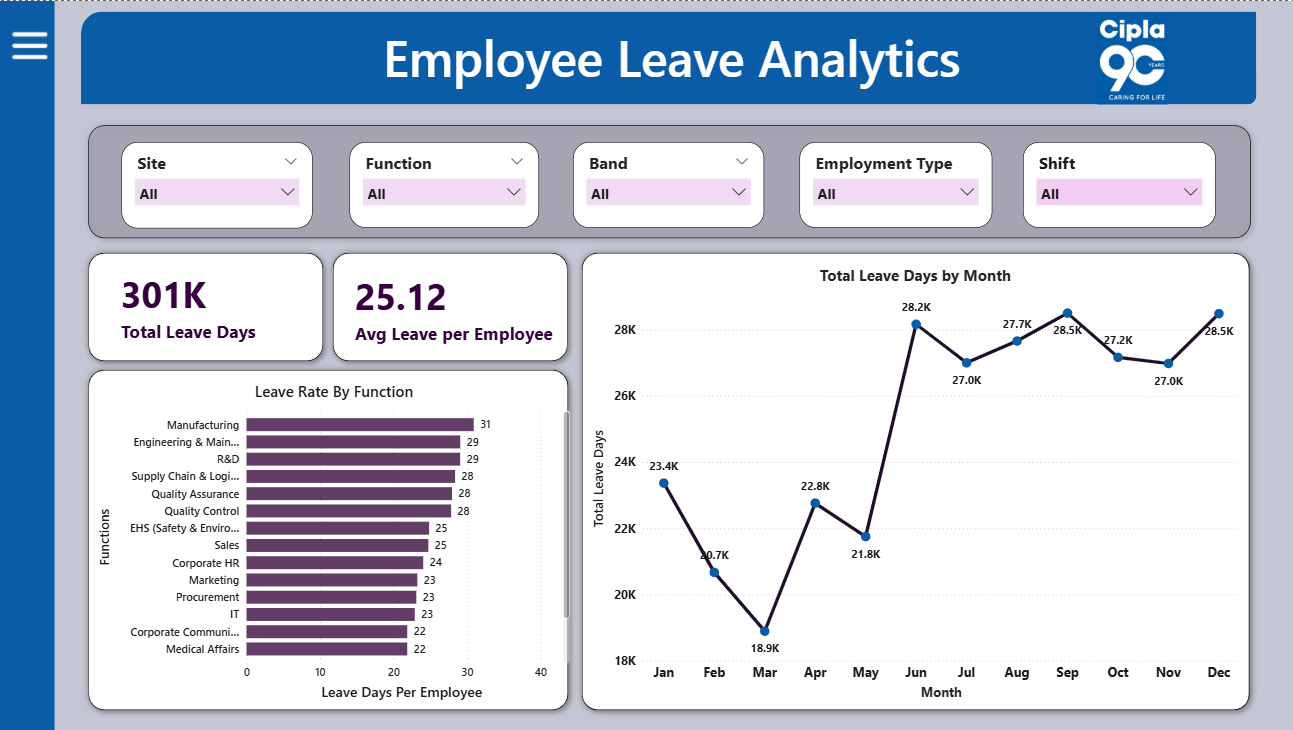

The dashboard page shown, as its layout file describes it:
{"tool":"powerbi","page":{"name":"Executive Overview","canvas":[1600,900],"ordinal":0},"visuals":[{"type":"shape","box":[2.9,0,67.3,900],"z":0,"group":"g1"},{"type":"actionButton","title":"Flyout","box":[245.6,0,1354.9,900],"z":0,"group":"g2"},{"type":"shape","box":[104.3,85.1,1451.1,42.6],"z":0},{"type":"shape","box":[104.3,12.8,1451.1,104.3],"z":1000},{"type":"actionButton","title":"Menu Button","box":[11.7,23.4,55.3,61.7],"z":1000,"group":"g1"},{"type":"actionButton","title":"back button","box":[298.6,60.8,68.6,60.8],"z":1000,"group":"g2"},{"type":"shape","title":"Page Navigation","box":[69.4,0,248.9,900],"z":2000,"group":"g2"},{"type":"shape","box":[104.3,446.8,610.6,438.3],"z":2000},{"type":"actionButton","title":"Pattern Insights","box":[31.9,419.6,266.7,62.7],"z":3000,"group":"g2"},{"type":"clusteredBarChart","title":"Leave Rate By Function","fields":{"Category":["Employees.Function"],"Y":["Leaves.Avg Leave per Employee"]},"box":[121.3,468.1,591.5,400],"z":3000},{"type":"shape","box":[104.3,144.7,1453.2,157.4],"z":4000},{"type":"actionButton","title":"Location Insights","box":[31.9,318.6,266.7,62.7],"z":4000,"group":"g2"},{"type":"actionButton","title":"Executive Overview","box":[31.9,217.6,266.7,62.7],"z":5000,"group":"g2"},{"type":"shape","box":[104,302,308,152],"z":5000},{"type":"shape","box":[406,302,308,152],"z":6000},{"type":"group","id":"g1","title":"Menu Bar","box":[2.9,0,67.3,900],"z":7000},{"type":"cardVisual","fields":{"Data":["Leaves.Total Leave Days"]},"box":[124,308,266,138],"z":8000},{"type":"cardVisual","fields":{"Data":["Leaves.Avg Leave per Employee"]},"box":[412.8,308.5,317,138.3],"z":9000},{"type":"slicer","fields":{"Values":["Sites.Site_Name"]},"box":[153.2,174.5,236.2,106.4],"z":10000},{"type":"slicer","fields":{"Values":["Employees.Function"]},"box":[436,174,234,106],"z":11000},{"type":"slicer","fields":{"Values":["Employees.Band"]},"box":[712,174,236,106],"z":12000},{"type":"slicer","fields":{"Values":["Employees.Employment_Type"]},"box":[990,174,238,106],"z":13000},{"type":"shape","box":[712.8,302.1,842.6,583],"z":14000},{"type":"lineChart","title":"Total Leave Days by Month","fields":{"Category":["Leaves.Month_Name"],"Y":["Leaves.Total Leave Days"]},"box":[729.8,325.5,808.5,542.6],"z":15000},{"type":"image","box":[1280,13.8,243.8,107.5],"z":15500},{"type":"slicer","fields":{"Values":["Employees.Shift"]},"box":[1266,174,238,106],"z":15750},{"type":"group","id":"g2","title":"Menu Objects","box":[31.9,0,1568.1,900],"z":16000}]}

Visuals, with their boxes in screenshot pixels (x1, y1, x2, y2), scaled from the page's 1600x900 canvas onto the 1293x730 screenshot:
shape: {"left": 2, "top": 0, "right": 57, "bottom": 729}
"Flyout" actionButton: {"left": 198, "top": 0, "right": 1292, "bottom": 729}
shape: {"left": 84, "top": 69, "right": 1257, "bottom": 104}
shape: {"left": 84, "top": 10, "right": 1257, "bottom": 95}
"Menu Button" actionButton: {"left": 9, "top": 19, "right": 54, "bottom": 69}
"back button" actionButton: {"left": 241, "top": 49, "right": 297, "bottom": 99}
"Page Navigation" shape: {"left": 56, "top": 0, "right": 257, "bottom": 729}
shape: {"left": 84, "top": 362, "right": 578, "bottom": 718}
"Pattern Insights" actionButton: {"left": 26, "top": 340, "right": 241, "bottom": 391}
"Leave Rate By Function" clusteredBarChart: {"left": 98, "top": 380, "right": 576, "bottom": 704}
shape: {"left": 84, "top": 117, "right": 1259, "bottom": 245}
"Location Insights" actionButton: {"left": 26, "top": 258, "right": 241, "bottom": 309}
"Executive Overview" actionButton: {"left": 26, "top": 176, "right": 241, "bottom": 227}
shape: {"left": 84, "top": 245, "right": 333, "bottom": 368}
shape: {"left": 328, "top": 245, "right": 577, "bottom": 368}
"Menu Bar" group: {"left": 2, "top": 0, "right": 57, "bottom": 729}
cardVisual - Leaves.Total Leave Days: {"left": 100, "top": 250, "right": 315, "bottom": 362}
cardVisual - Leaves.Avg Leave per Employee: {"left": 334, "top": 250, "right": 590, "bottom": 362}
slicer - Sites.Site_Name: {"left": 124, "top": 142, "right": 315, "bottom": 228}
slicer - Employees.Function: {"left": 352, "top": 141, "right": 541, "bottom": 227}
slicer - Employees.Band: {"left": 575, "top": 141, "right": 766, "bottom": 227}
slicer - Employees.Employment_Type: {"left": 800, "top": 141, "right": 992, "bottom": 227}
shape: {"left": 576, "top": 245, "right": 1257, "bottom": 718}
"Total Leave Days by Month" lineChart: {"left": 590, "top": 264, "right": 1243, "bottom": 704}
image: {"left": 1034, "top": 11, "right": 1231, "bottom": 98}
slicer - Employees.Shift: {"left": 1023, "top": 141, "right": 1215, "bottom": 227}
"Menu Objects" group: {"left": 26, "top": 0, "right": 1292, "bottom": 729}
